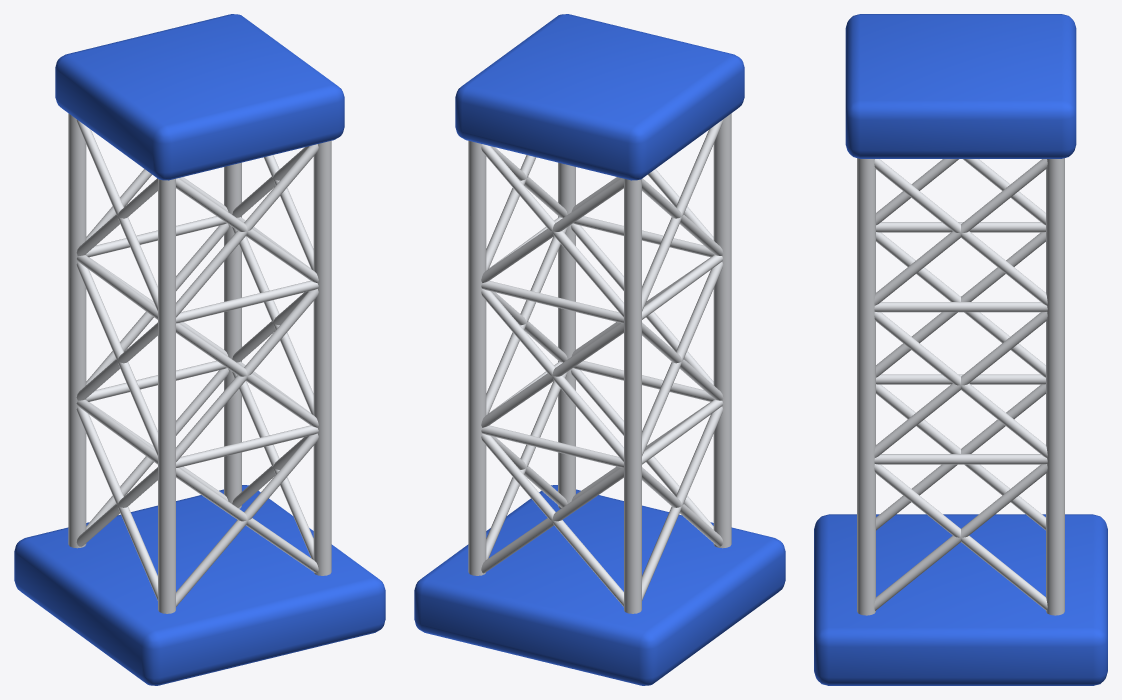
File: SD_Support_Truss.fbx
The picture shows the model from 3 angles, left to right: view 1: azimuth 30°, elevation 25°; view 2: azimuth 150°, elevation 25°; view 3: azimuth 270°, elevation 25°; orthographic projection. The views are drawn at different scales.
Visible parts, largest first — view 1: Support_Truss; view 2: Support_Truss; view 3: Support_Truss.
Boxes of the visible parts, box(x1,y1,x2,y2) form: Support_Truss: box(14, 14, 385, 685); Support_Truss: box(414, 14, 785, 685); Support_Truss: box(814, 14, 1107, 685).
Bounding box in the file's own units: 1.4 × 3 × 1.4.
